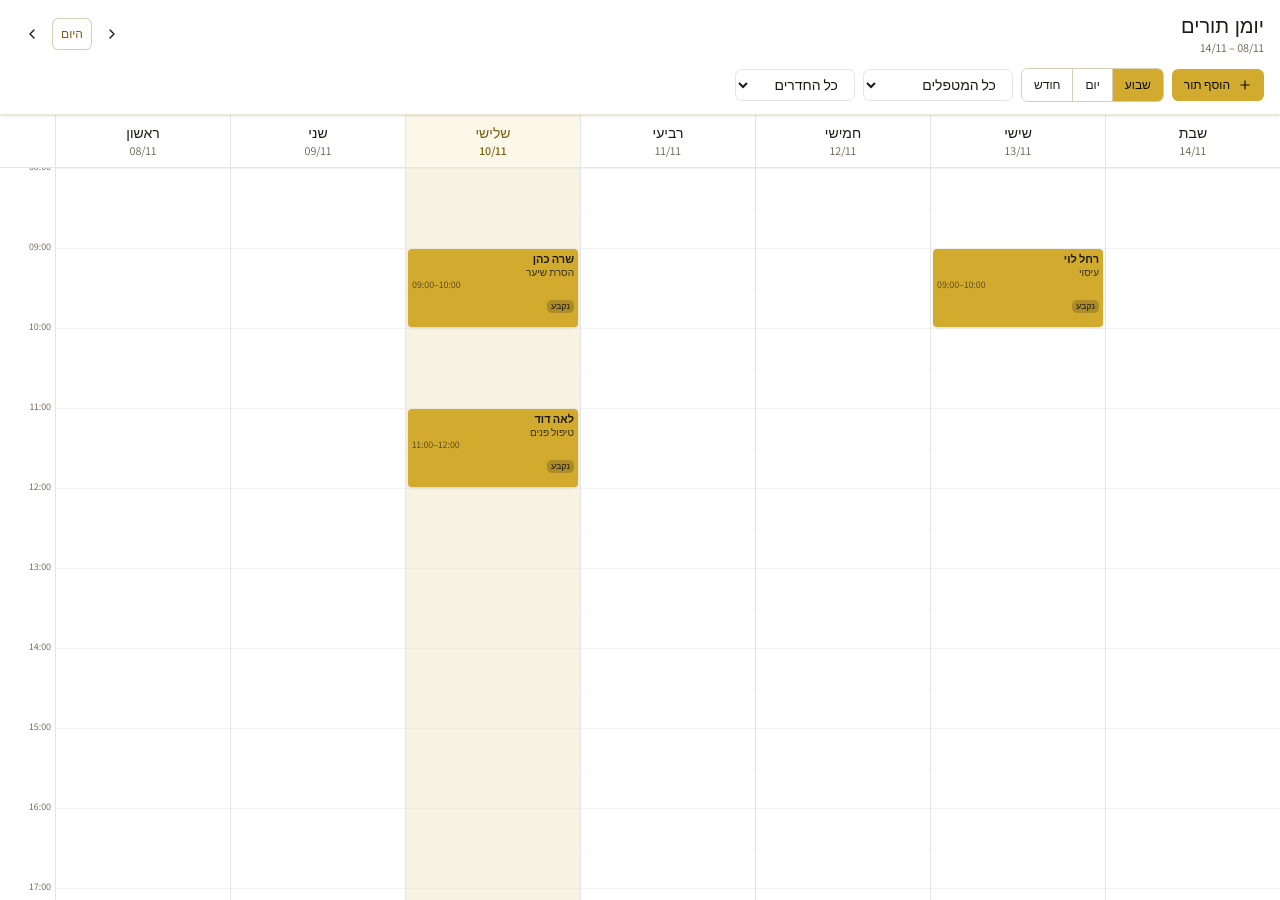
Scenario: 11.11 — ניווט חודש קודם/הבא/היום › 'חודש הבא' עובר מנובמבר לדצמבר 2026
Click the button with aria-label "תצוגת חודש".
click(1047, 85)  # box [1022,69,1072,101]
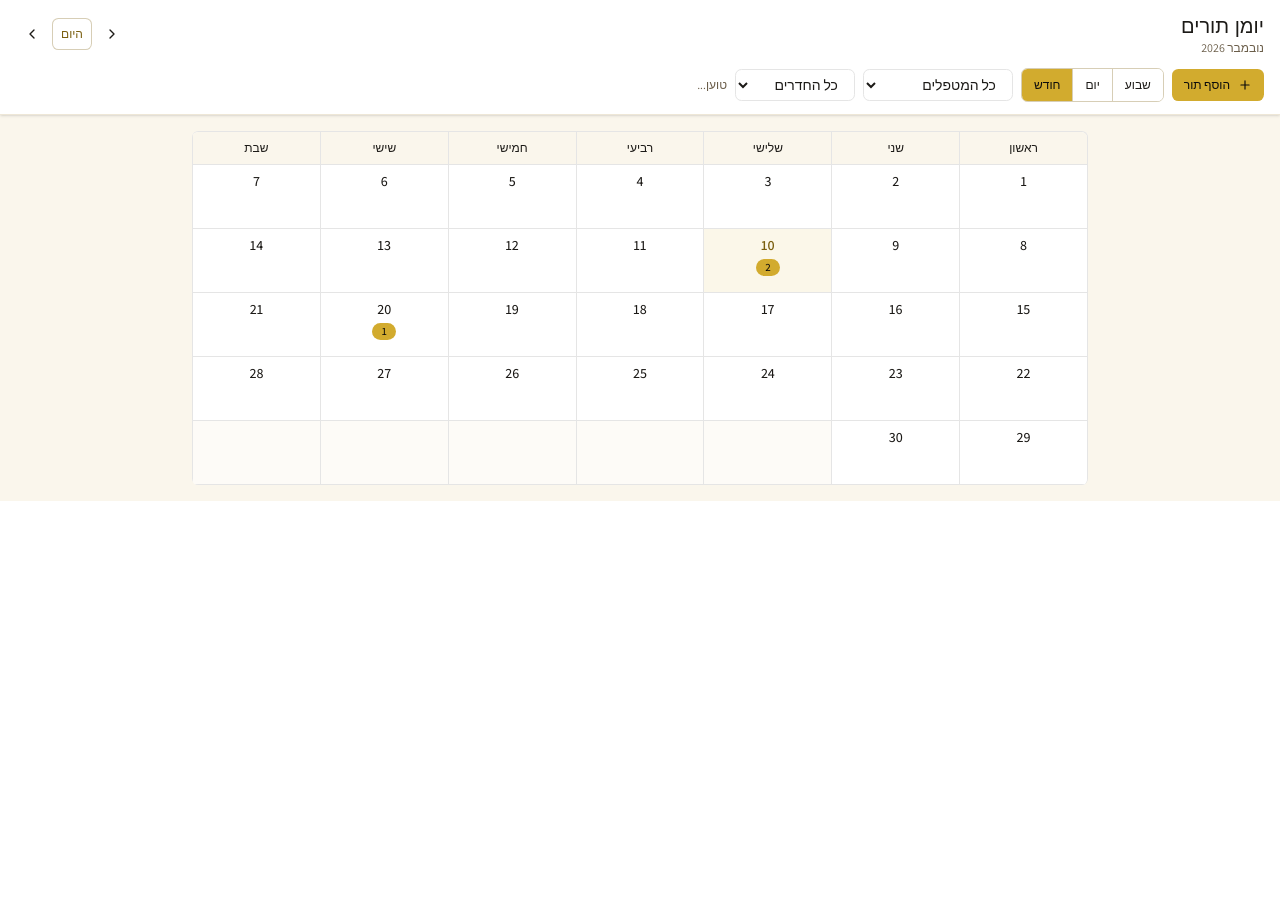
Expected: the element named "תצוגת חודש: נובמבר 2026" is shown, [192,131,1088,485]
Click the button named "חודש הבא".
click(112, 34)  # box [96,18,128,50]
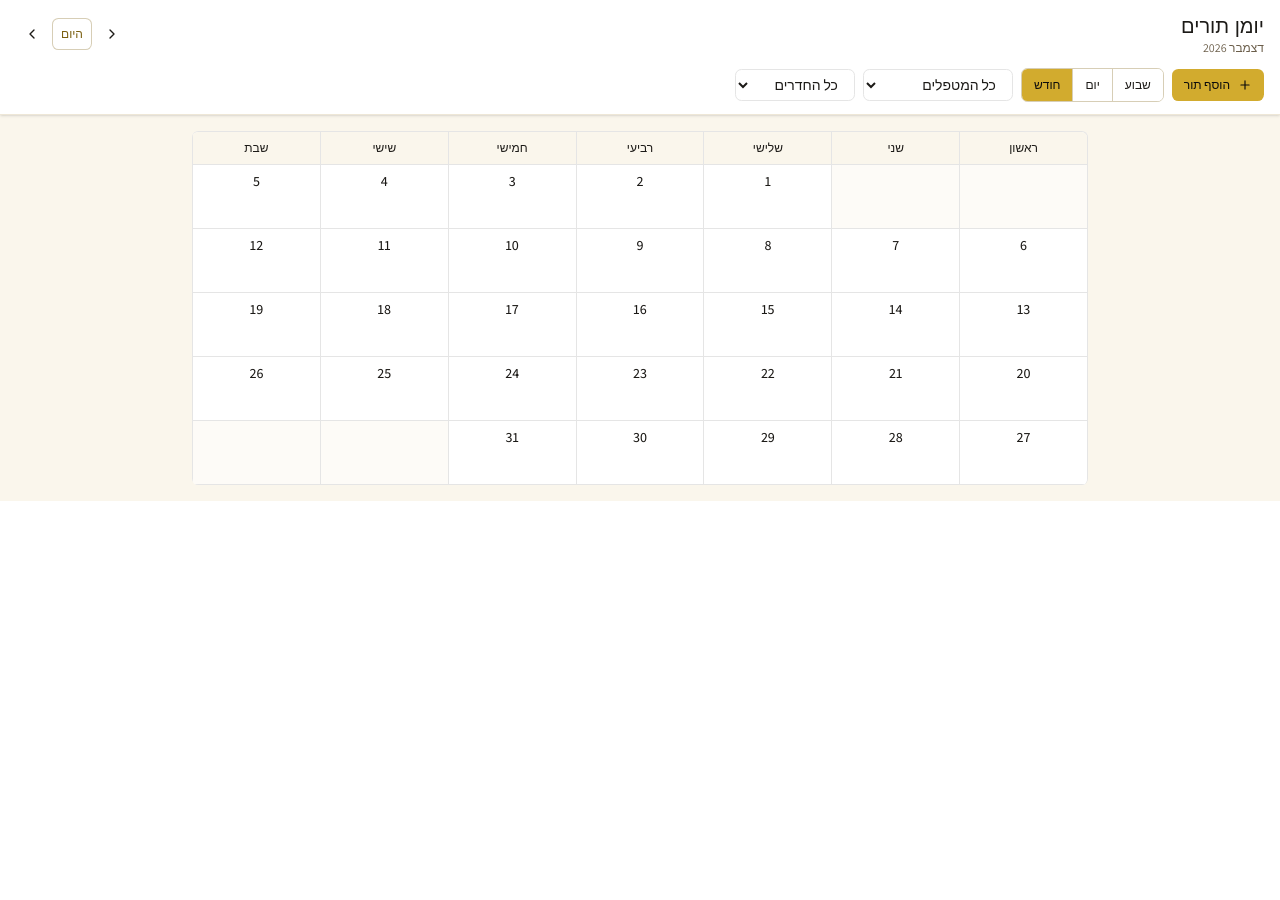
Expected: the element named "תצוגת חודש: דצמבר 2026" is shown, [192,131,1088,485]
